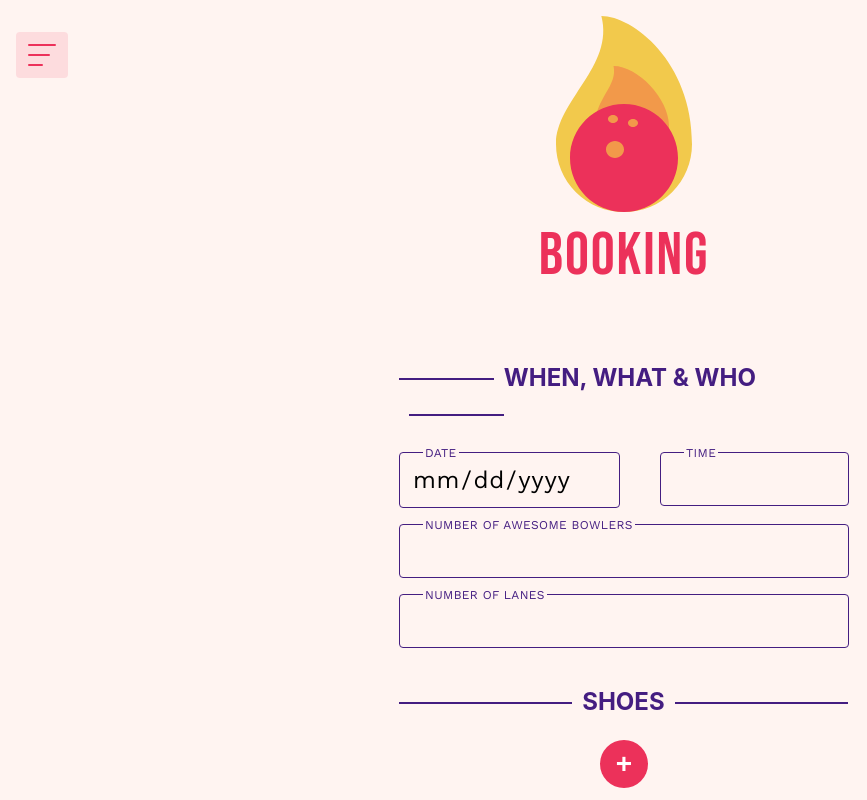
Scenario: Shoe size input › should display remove button
The width and height of the screenshot is (867, 800).
In the date field with class "booking-info__date": (510, 480) [399,452,620,508], type "2023-06-12"
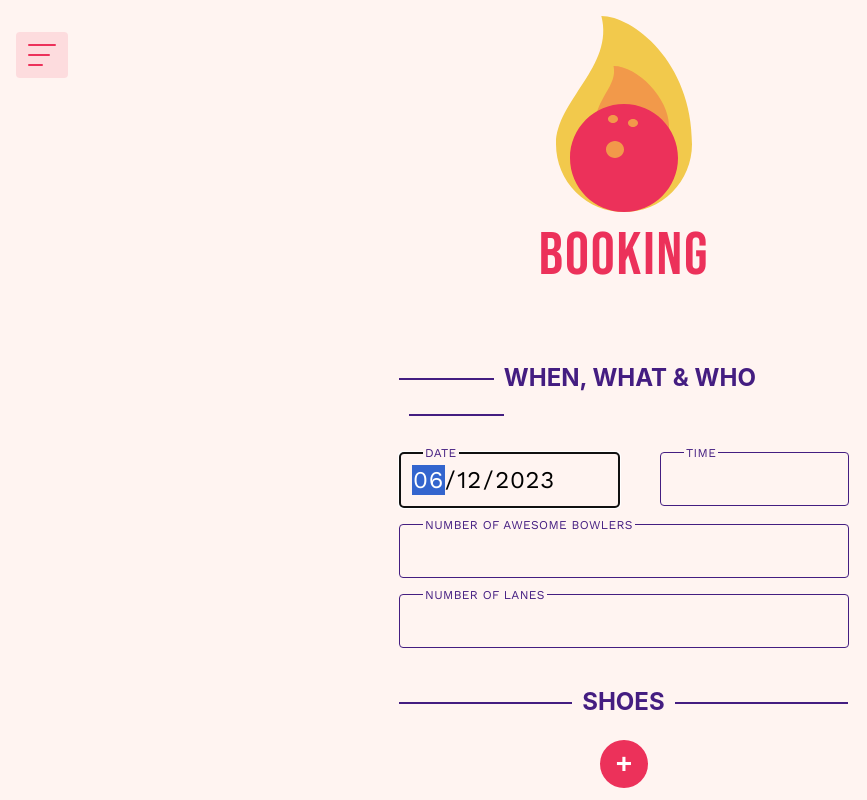
In the field named "time": (755, 479) [660,452,849,506], type "18.00"
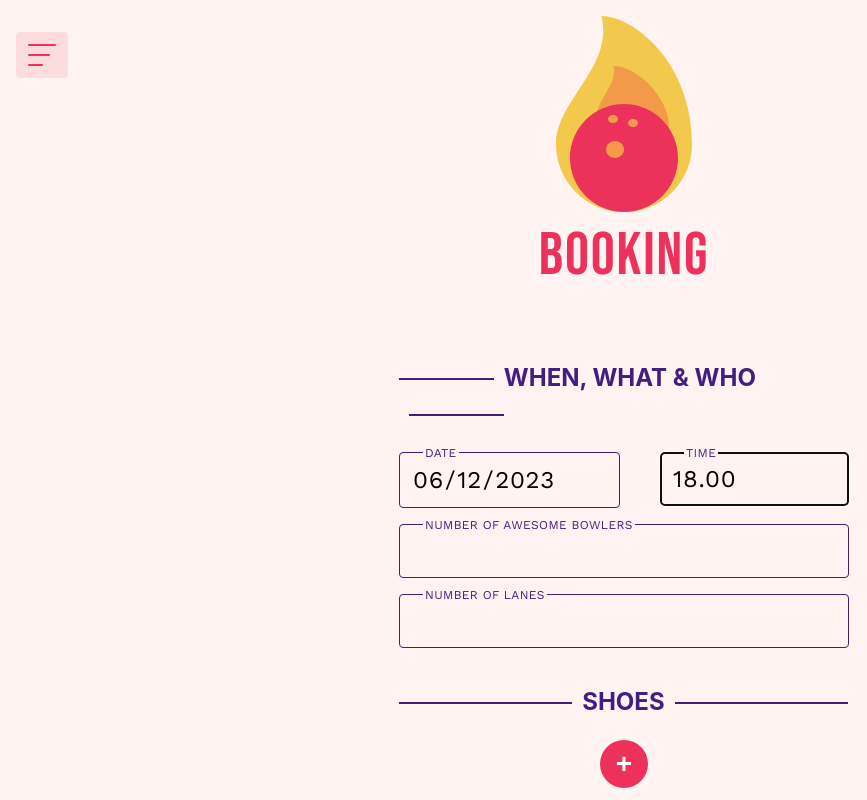
In the number field with class "booking-info__who": (624, 551) [399,524,849,578], type "2"
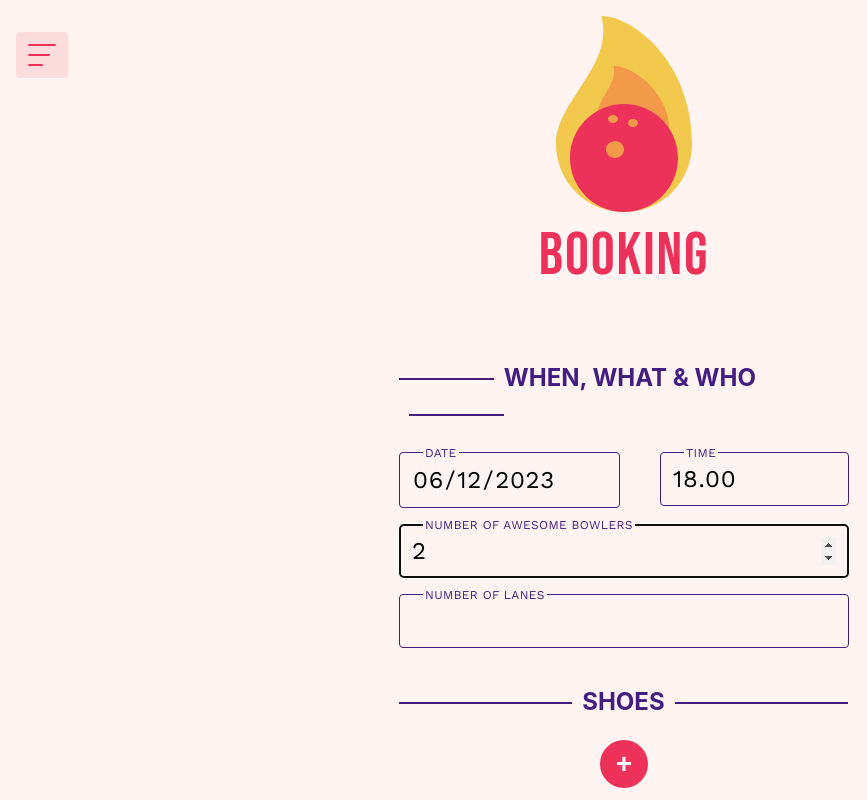
In the number field with class "booking-info__lanes": (624, 621) [399,594,849,648], type "1"
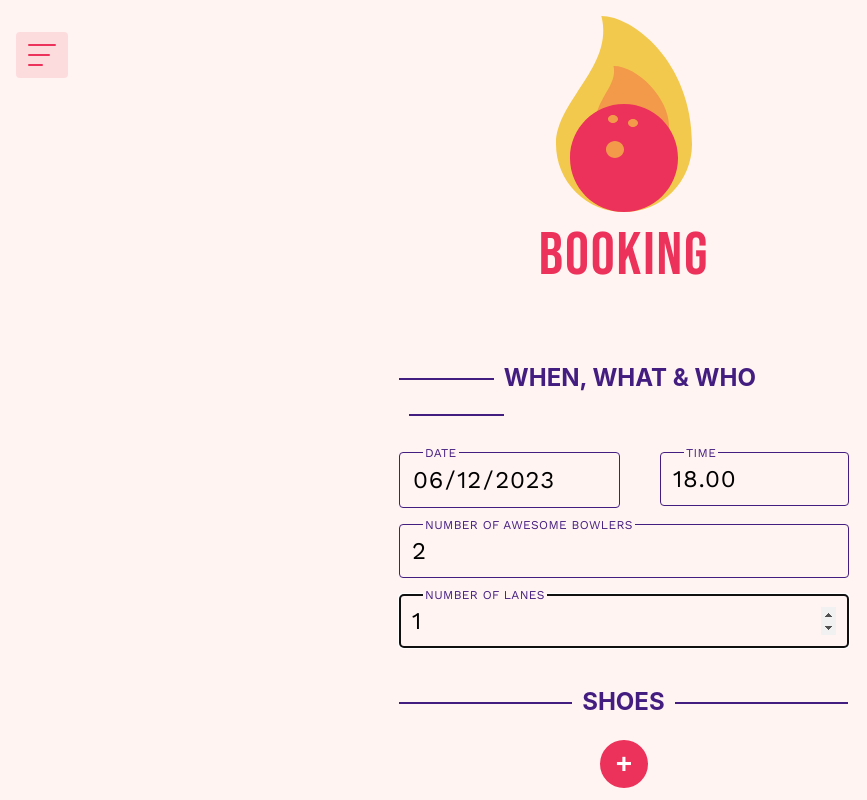
Click the button with class "shoes__button": click(624, 764) [600,740,648,788]
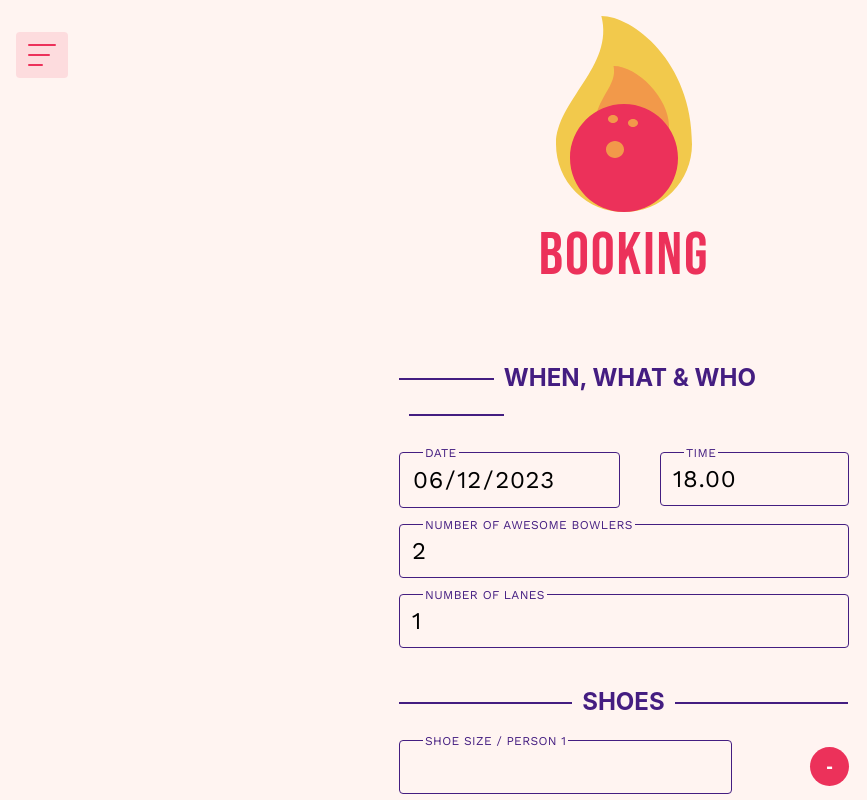
Expected: the button with class "shoes__button--small" is shown, [810,747,849,786]
